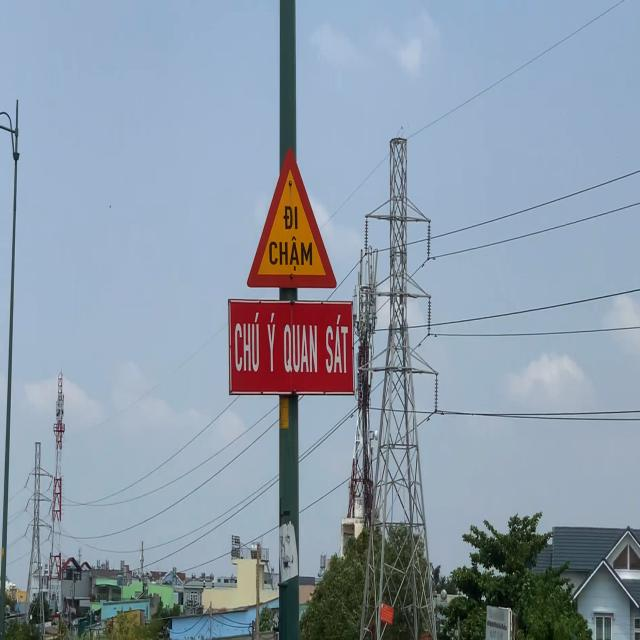Nguy hiem: (242, 145, 342, 293)
